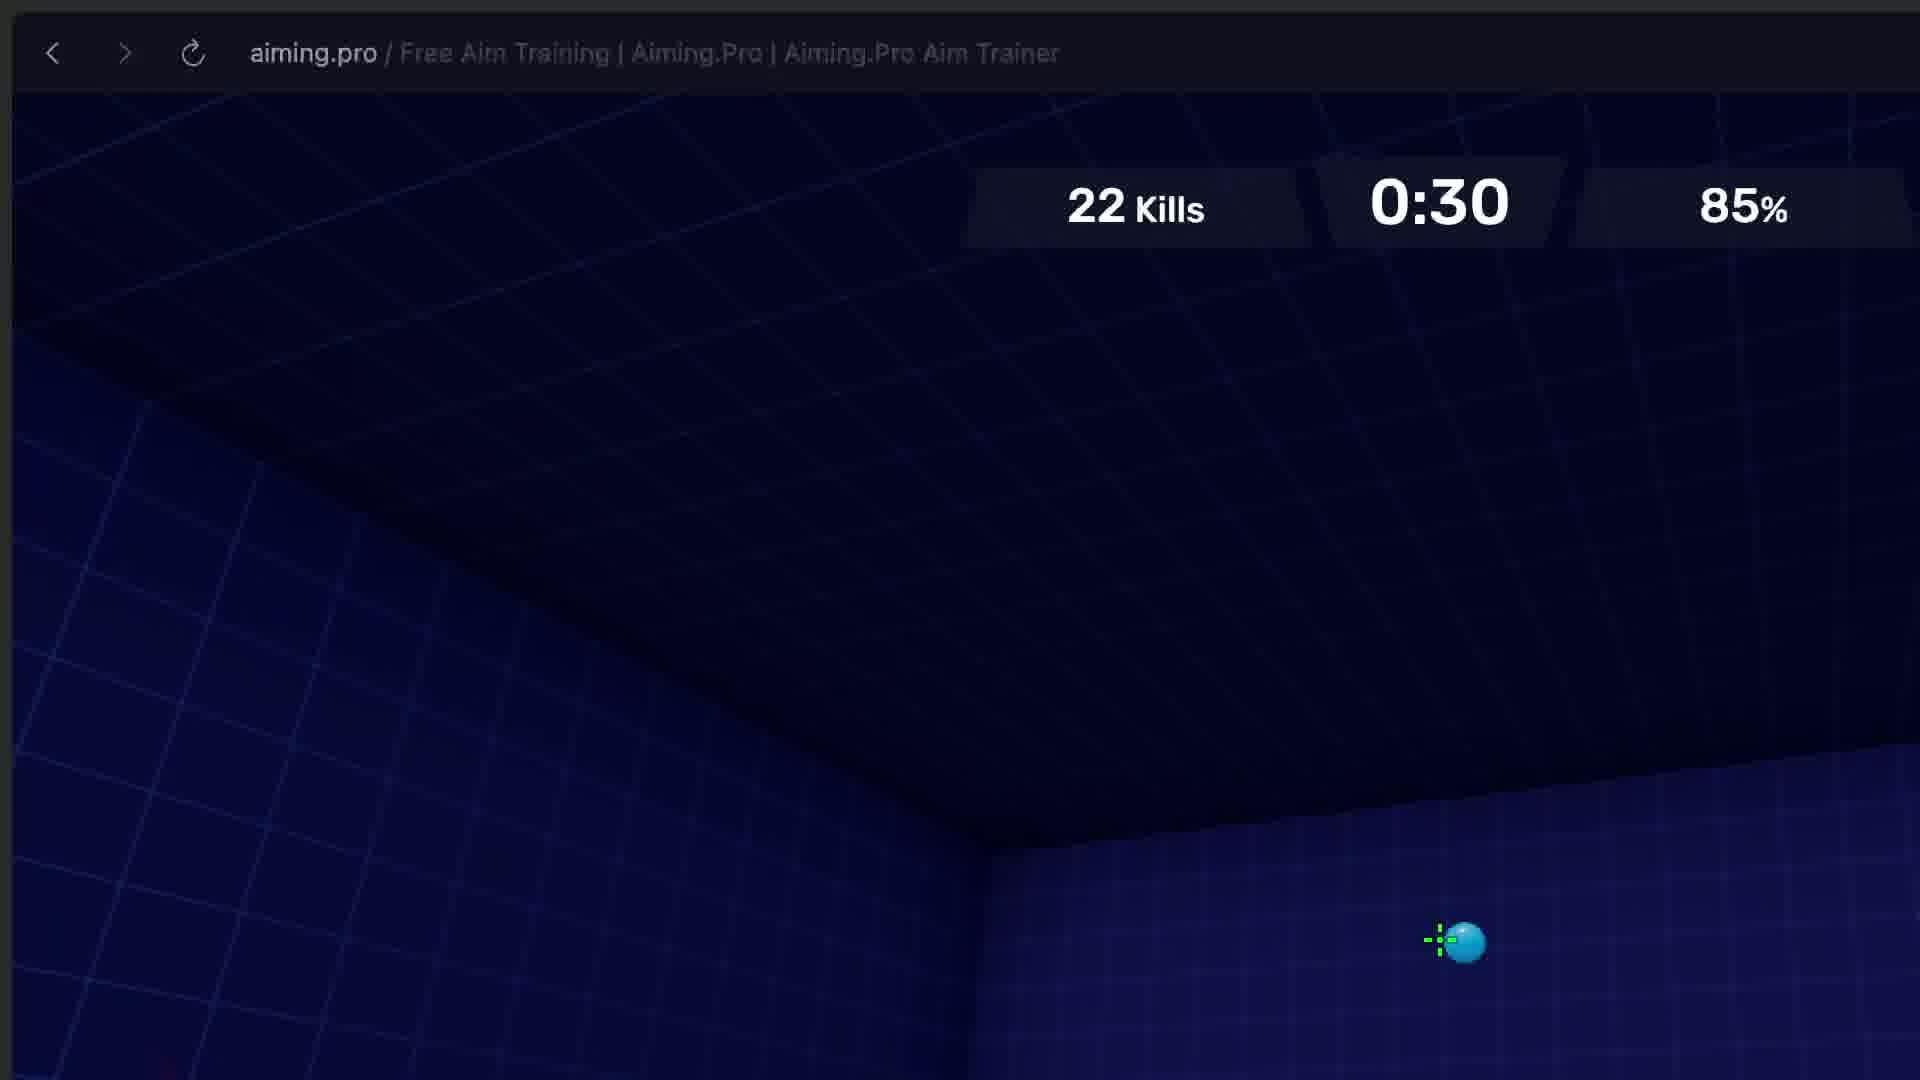target: (1433, 922, 1486, 963)
